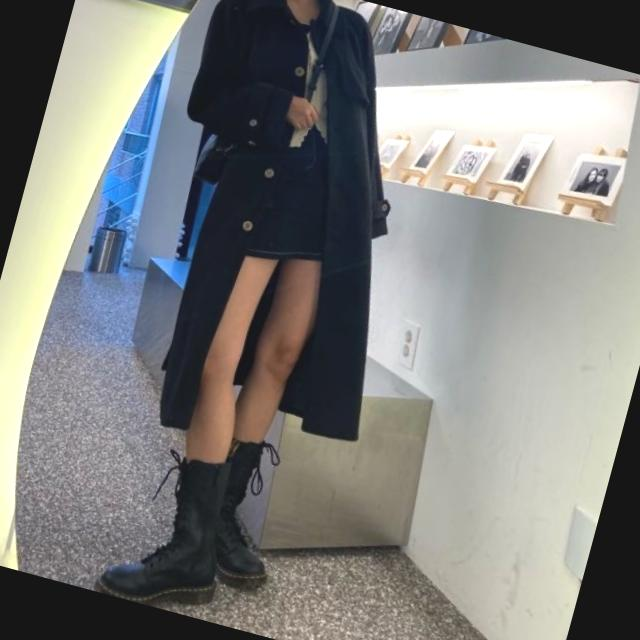coat: (103, 0, 468, 478)
skirt: (229, 116, 353, 276)
